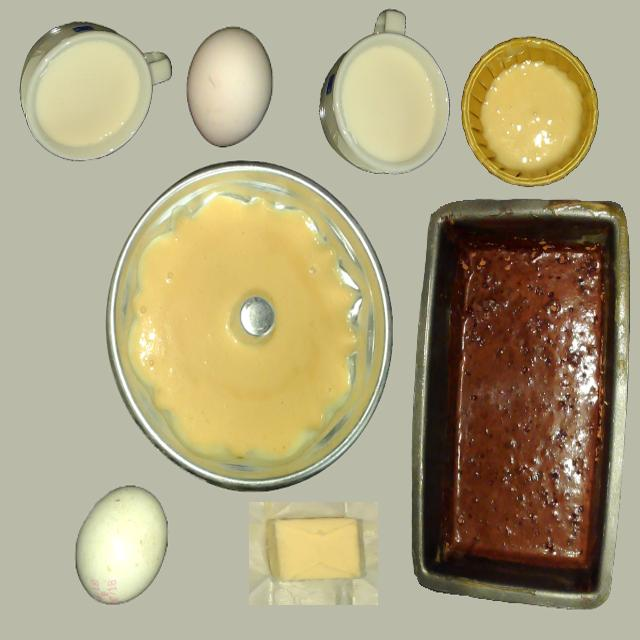Sugar: (34, 38, 142, 150), (339, 43, 437, 165)
